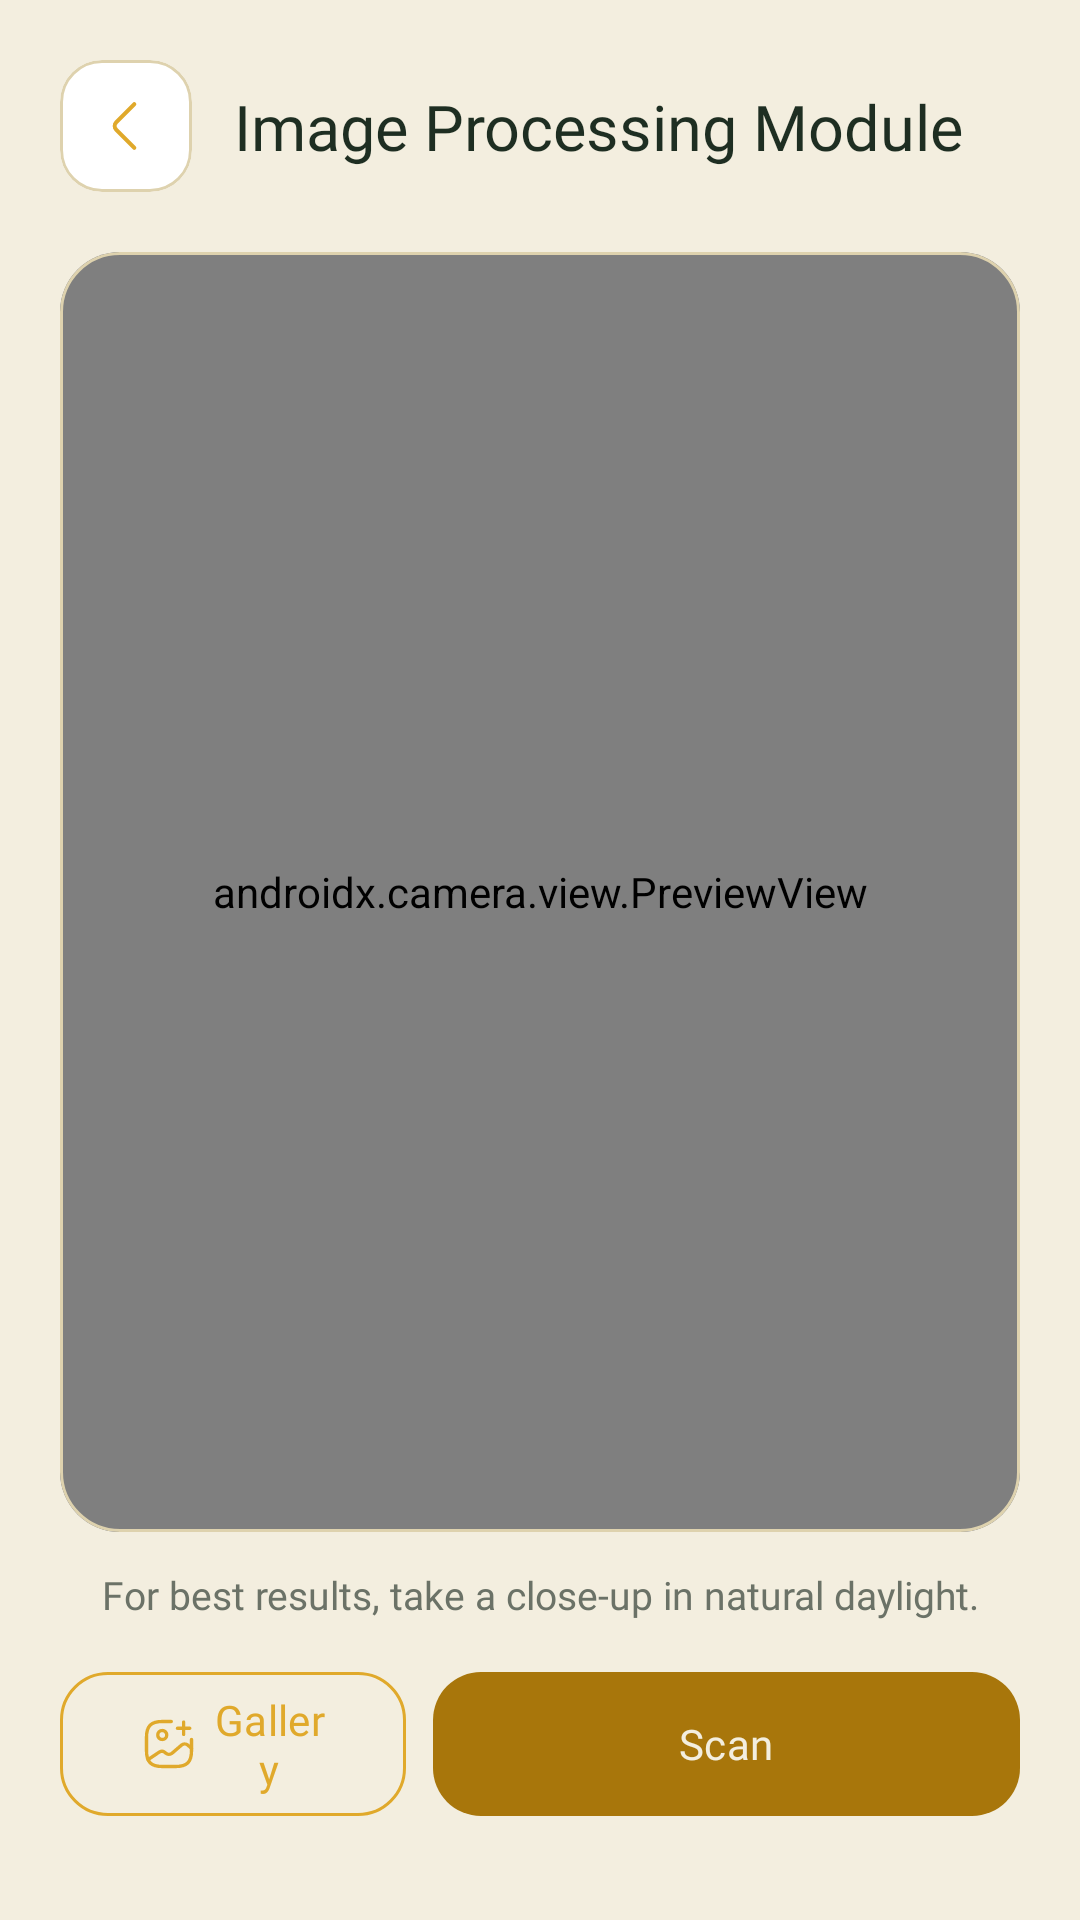

Named icons in this screenshot (1080px×1920px) and their centers, (x=x, y=y):
Back: (x=124, y=126)
